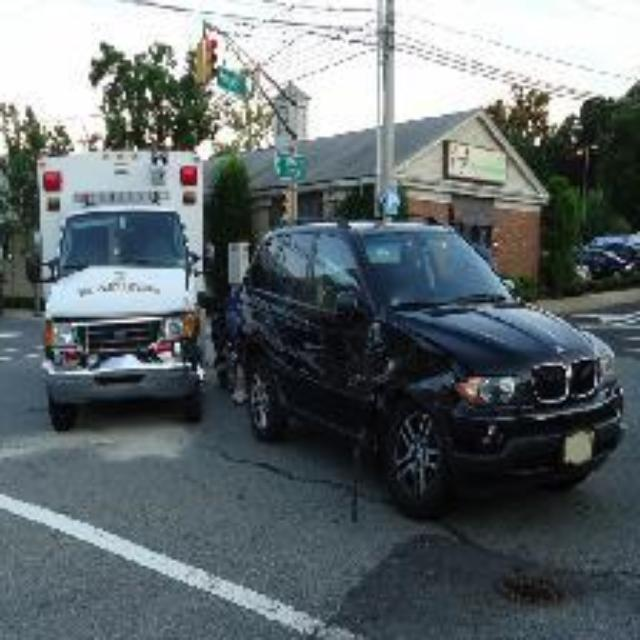emergency: (17, 145, 225, 425)
